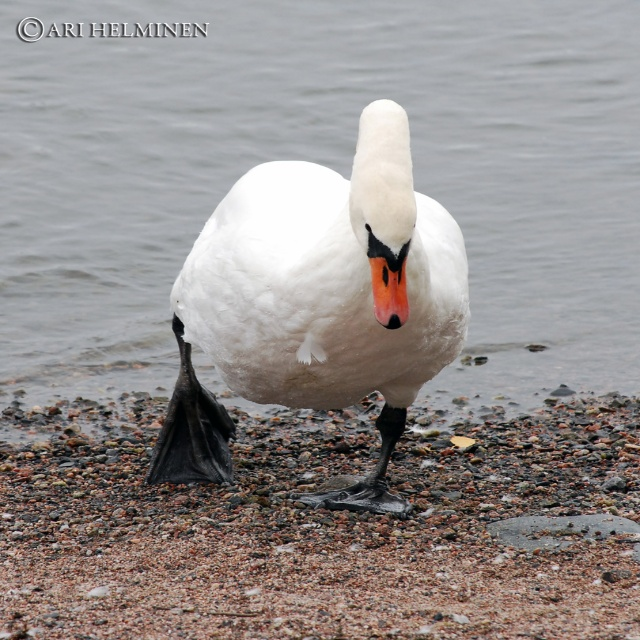Goose: (144, 95, 471, 508)
